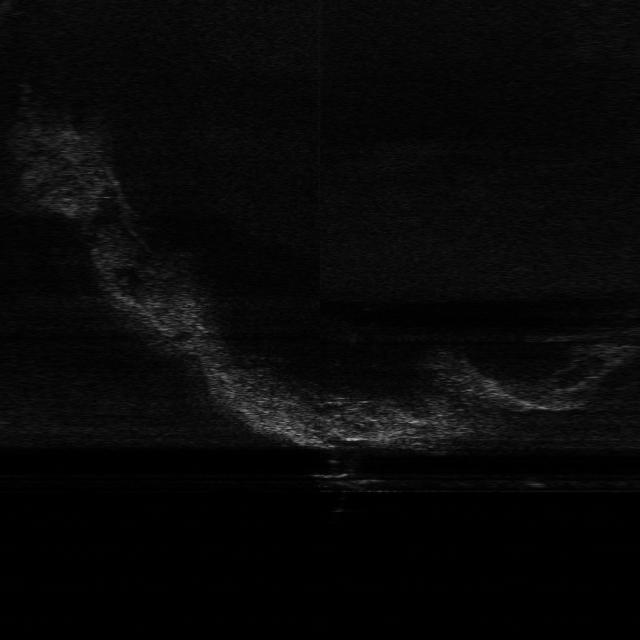plane: (310, 468, 384, 494)
